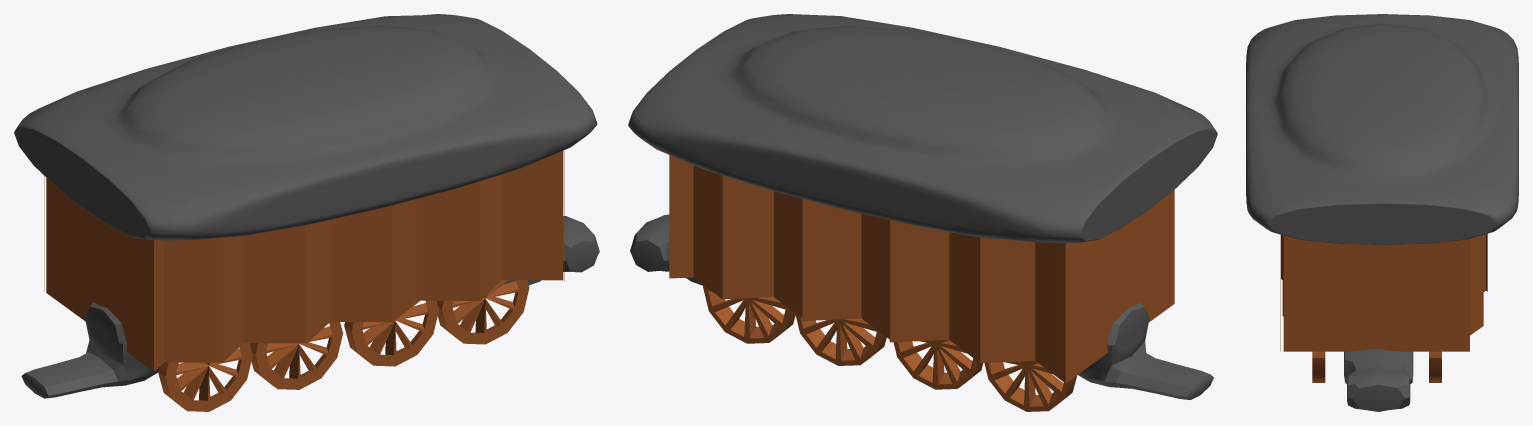
File: WAGON.fbx
3 views of the same model, side by side, from view 1: azimuth 30°, elevation 25°; view 2: azimuth 150°, elevation 25°; view 3: azimuth 270°, elevation 25° (orthographic). The views are drawn at different scales.
Parts seen in each view (by area): view 1: Toit.001, Cube, LienRouesEtWagon.001, bigwheel.009, bigwheel.011, bigwheel.008, bigwheel.010; view 2: Toit.001, Cube, LienRouesEtWagon.001, bigwheel.005, bigwheel.006, bigwheel.004, bigwheel.007; view 3: Toit.001, Cube, LienRouesEtWagon.001, bigwheel.010, bigwheel.005.
Boxes of the visible parts, <box> form: Toit.001: <box>14,14,597,240</box>; Cube: <box>44,150,564,371</box>; LienRouesEtWagon.001: <box>21,216,599,398</box>; bigwheel.009: <box>158,343,252,411</box>; bigwheel.011: <box>344,300,438,366</box>; bigwheel.008: <box>249,322,342,389</box>; bigwheel.010: <box>437,280,529,344</box>; Toit.001: <box>628,14,1217,242</box>; Cube: <box>669,155,1174,384</box>; LienRouesEtWagon.001: <box>630,214,1213,399</box>; bigwheel.005: <box>703,285,795,343</box>; bigwheel.006: <box>984,361,1077,411</box>; bigwheel.004: <box>795,313,886,365</box>; bigwheel.007: <box>893,340,983,389</box>; Toit.001: <box>1246,14,1518,245</box>; Cube: <box>1280,233,1487,351</box>; LienRouesEtWagon.001: <box>1344,349,1413,411</box>; bigwheel.010: <box>1312,351,1325,382</box>; bigwheel.005: <box>1429,351,1441,382</box>.
Bounding box in the file's own units: 2212 × 1068 × 1098.
